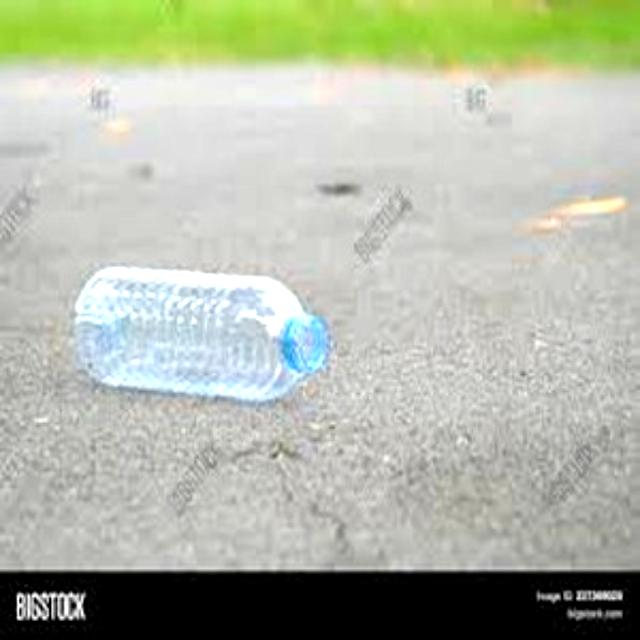Plastic: (72, 262, 334, 406)
